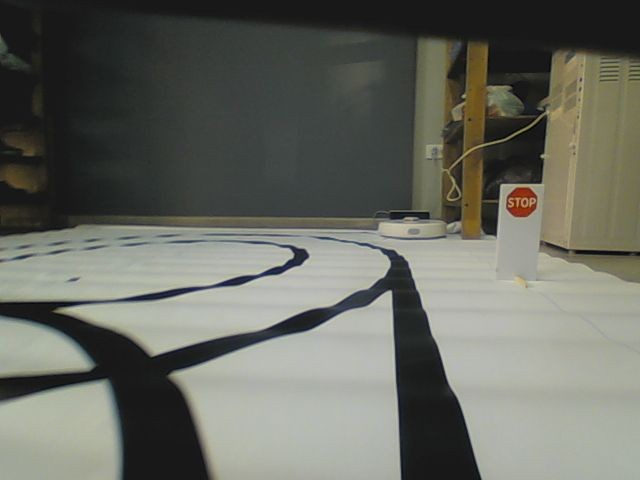Stop: (505, 187, 539, 219)
